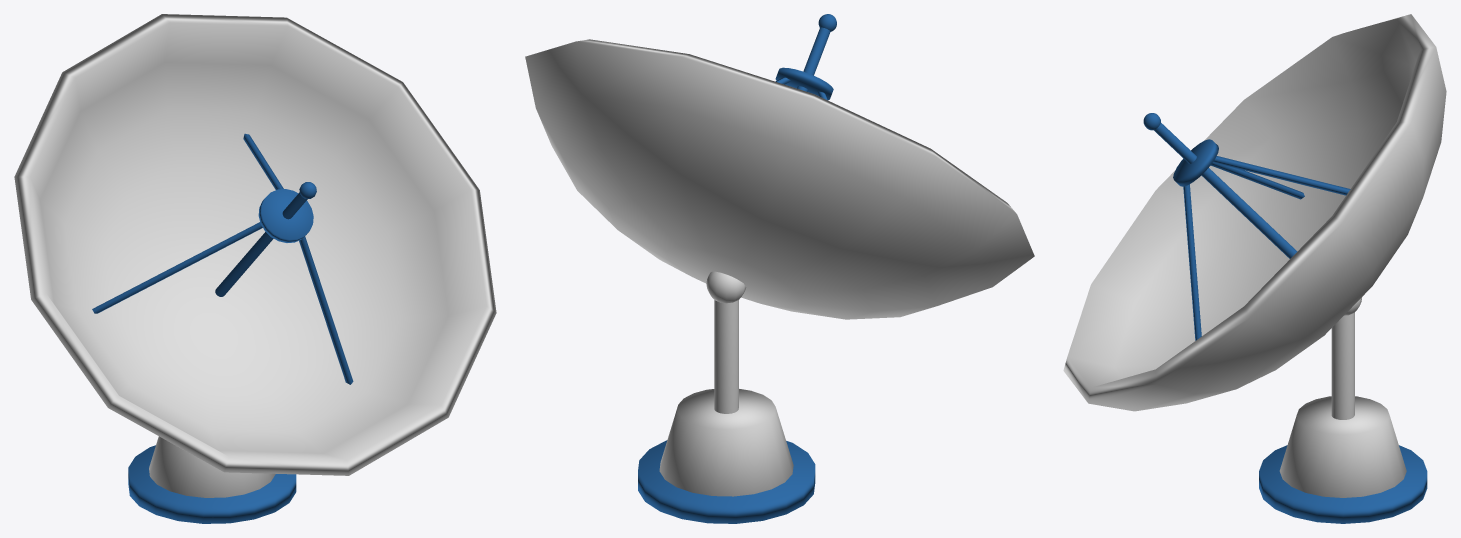
Rendered from Radar.fbx.
3 renders of one model, left to right at view 1: azimuth 30°, elevation 25°; view 2: azimuth 150°, elevation 25°; view 3: azimuth 270°, elevation 25°, orthographic. The views are drawn at different scales.
Parts seen in each view (by area): view 1: polySurface33; view 2: polySurface33; view 3: polySurface33.
Boxes of the visible parts, <box> form: polySurface33: <box>14,14,496,523</box>; polySurface33: <box>525,14,1034,523</box>; polySurface33: <box>1063,14,1446,523</box>.
Bounding box in the file's own units: 11.55 × 10.85 × 8.57.
